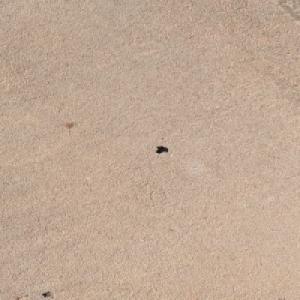BoltWasher: (154, 145, 164, 153)
